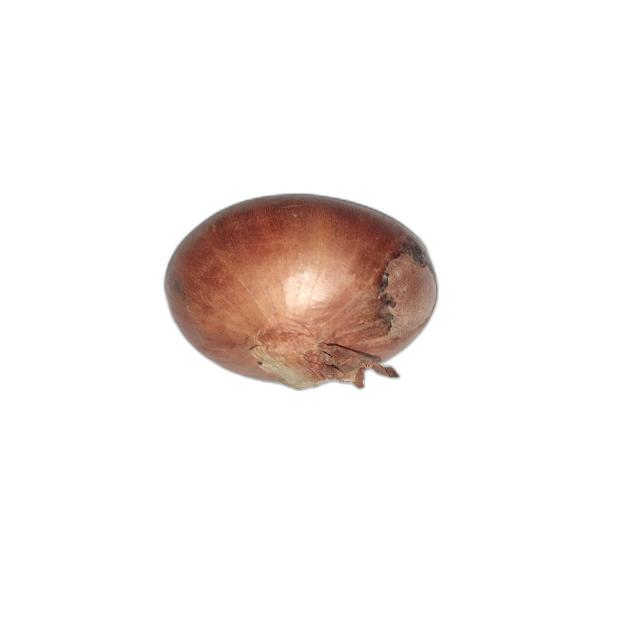onion: (163, 192, 439, 390)
